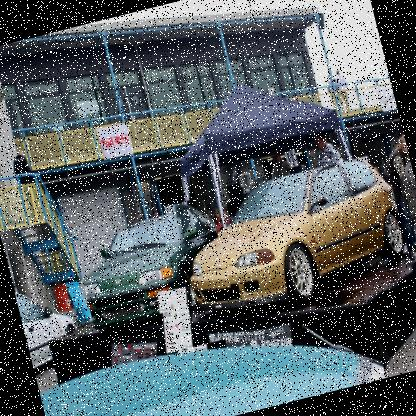Car: (164, 151, 415, 339), (38, 303, 388, 415), (74, 210, 234, 330), (14, 278, 86, 374)
